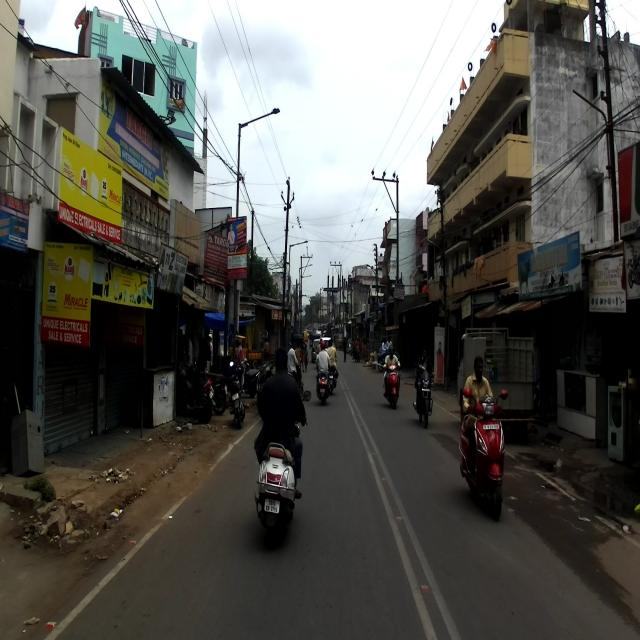motorcycle: (175, 358, 216, 422)
scooter: (254, 390, 312, 538), (458, 384, 509, 520)
